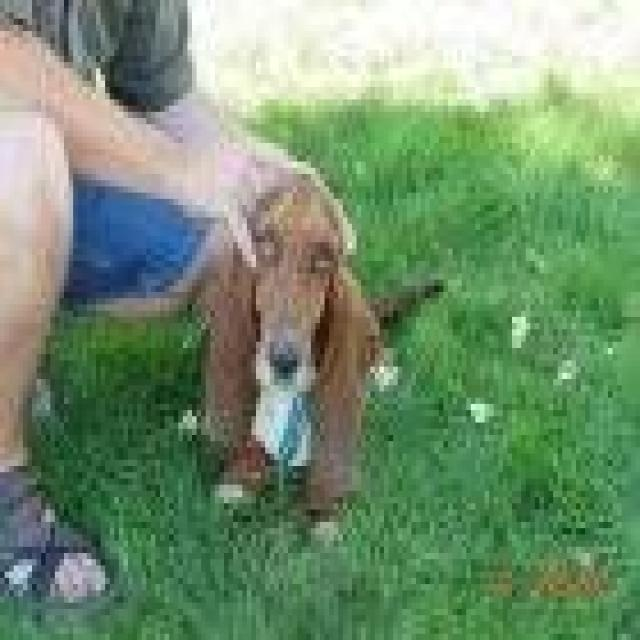cat: (172, 136, 466, 544)
